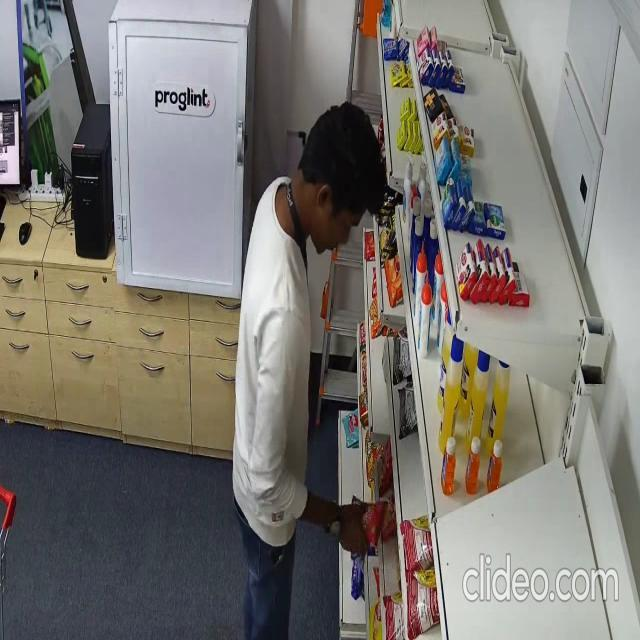normal: (231, 98, 398, 640)
